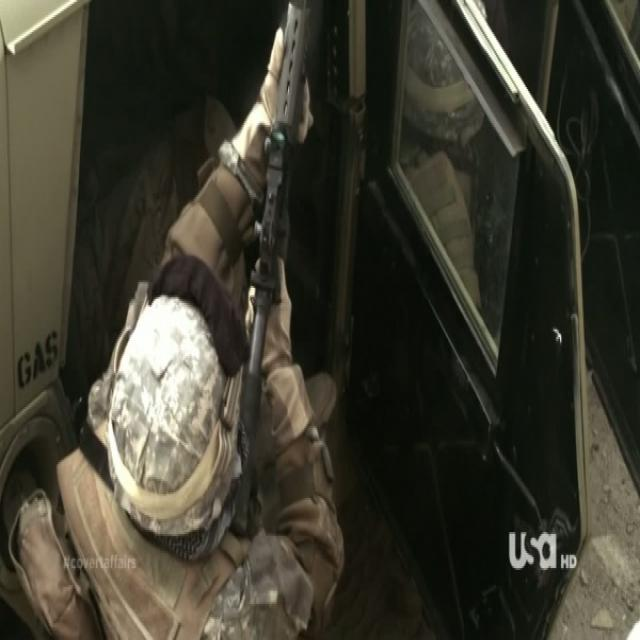rifle: (219, 2, 312, 541)
